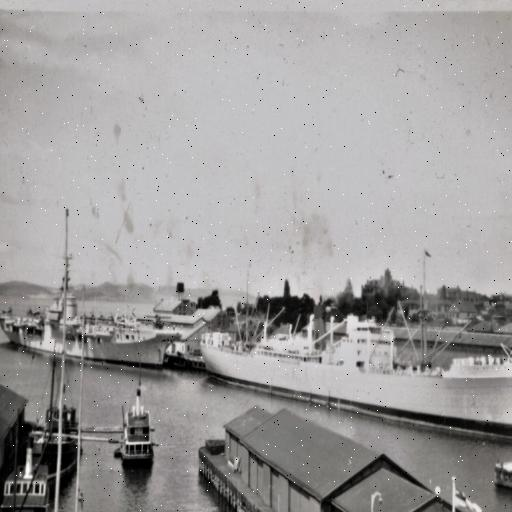Portanaves: (1, 260, 183, 378)
